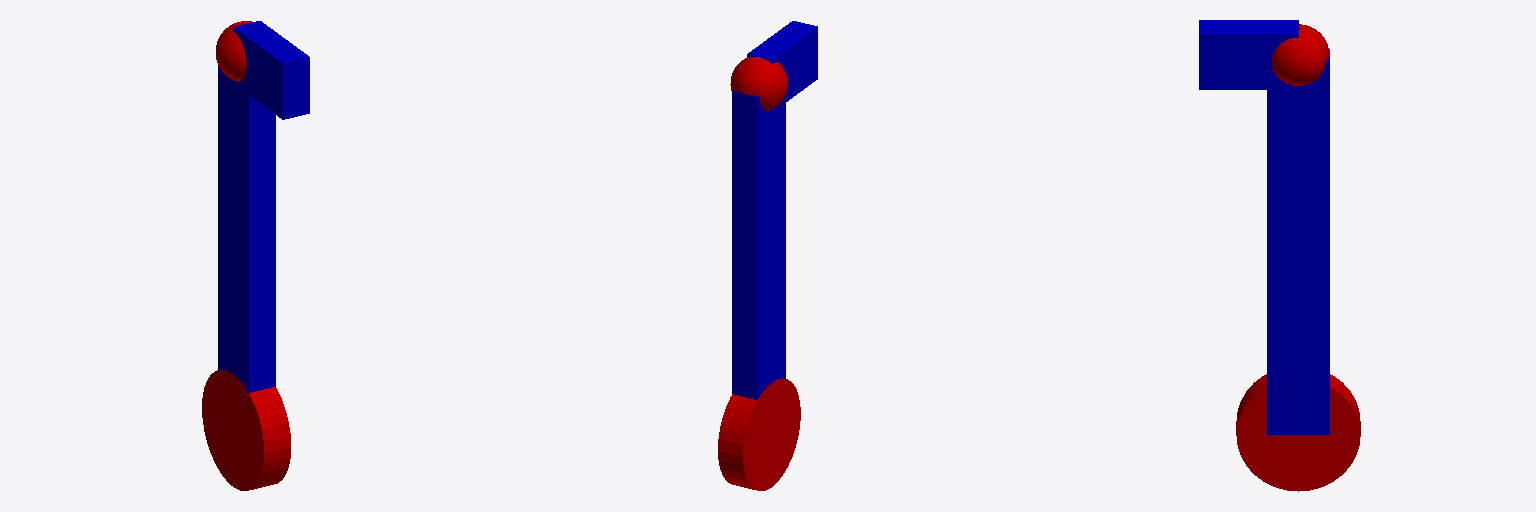
URDF robot description (TwoLinkStruct8389853770):
<?xml version="1.0"?>
<robot  name="TwoLinkStruct8389853770" >
 <material  name="blue" >
  <color  rgba="0 0 0.8 1.0" />
 </material>
 <material  name="red" >
  <color  rgba="0.8 0 0 1.0" />
 </material>
 <link  name="base_link" >
  <visual >
   <origin  rpy="0 1.5707 0"  xyz="0 0 0" />
   <material  name="red" />
   <geometry >
    <cylinder  length="0.05"  radius="0.1" />
   </geometry>
  </visual>
 </link>
 <joint  type="revolute"  name="joint1" >
  <parent  link="base_link" />
  <child  link="link1" />
  <origin  xyz="0 0 0"  rpy="0 0 0" />
  <axis  xyz="1 0 0" />
 </joint>
 <link  name="link1" >
  <inertial >
   <origin  rpy="0 0 0"  xyz="0 0 0.33163691186900107" />
   <mass  value="1.7160672150678613" />
   <inertia  ixy="0.0"  iyy="0.0007150280062782756"  izz="0.06327027780727998"  ixz="0.0"  ixx="0.06327027780727998"  iyz="0.0" />
  </inertial>
  <visual >
   <origin  rpy="0 0 0"  xyz="0 0 0.33163691186900107" />
   <material  name="blue" />
   <geometry >
    <box  size="0.05 0.1 0.6632738237380021" />
   </geometry>
  </visual>
 </link>
 <joint  type="fixed"  name="joint-joint-1" >
  <parent  link="link1" />
  <child  link="joint-link-1" />
  <origin  xyz="0 0 0.6632738237380021"  rpy="1.5707 0 0" />
  <axis  xyz="1 0 0" />
 </joint>
 <link  name="joint-link-1" >
  <inertial >
   <origin  rpy="0 0 0"  xyz="0 0 0" />
   <mass  value="5.0" />
   <inertia  ixy="0"  iyy="0"  izz="0"  ixz="0"  ixx="0"  iyz="0" />
  </inertial>
  <visual >
   <origin  rpy="0 0 0"  xyz="0 0 0" />
   <material  name="red" />
   <geometry >
    <sphere  radius="0.05" />
   </geometry>
  </visual>
 </link>
 <joint  type="revolute"  name="joint2" >
  <parent  link="link1" />
  <child  link="link2" />
  <origin  xyz="0 0 0.6632738237380021"  rpy="1.5707 0 0" />
  <axis  xyz="1 0 0" />
 </joint>
 <link  name="link2" >
  <inertial >
   <origin  rpy="0 0 0"  xyz="0 0 0.0798189848607954" />
   <mass  value="0.7180564065914923" />
   <inertia  ixy="0.0"  iyy="0.0007150280062782756"  izz="0.004001908984001226"  ixz="0.0"  ixx="0.004001908984001226"  iyz="0.0" />
  </inertial>
  <visual >
   <origin  rpy="0 0 0"  xyz="0 0 0.0798189848607954" />
   <material  name="blue" />
   <geometry >
    <box  size="0.05 0.1 0.1596379697215908" />
   </geometry>
  </visual>
 </link>
 <joint  type="fixed"  name="eef_joint" >
  <parent  link="link2" />
  <child  link="eef" />
  <origin  xyz="0 0 0.1596379697215908"  rpy="0 0 0" />
 </joint>
 <link  name="eef" >
  <inertial >
   <origin  rpy="0 0 0"  xyz="0 0 0" />
   <mass  value="1" />
   <inertia  ixy="0"  iyy="0"  izz="0"  ixz="0"  ixx="0"  iyz="0" />
  </inertial>
 </link>
 <transmission  name="motor1" >
  <type  xmltext="SimpleTransmission" >
   SimpleTransmission
  </type>
  <actuator  name="motor1" >
   <mechanicalreduction  xmltext="1" >
    1
   </mechanicalreduction>
  </actuator>
  <joint  name="joint1" />
 </transmission>
 <transmission  name="motor2" >
  <type  xmltext="SimpleTransmission" >
   SimpleTransmission
  </type>
  <actuator  name="motor2" >
   <mechanicalreduction  xmltext="1" >
    1
   </mechanicalreduction>
  </actuator>
  <joint  name="joint2" />
 </transmission>
</robot>

<!-- {'carti': array([-0.1 ,  0.14,  0.85]), 'cartd': array([-0.1 ,  0.32,  1.29]), 'tau_mu': 0.08442957975599918, 'b0': 0.0, 'Km': 3.490400132804153, 'k_velocity': 17.610167111983223, 'tau_max_m': 2.0337054977203906, 'omega_max_m': 2321.345711828367, 'gear_ratio': 10.755843565986744, 'Kp': 74.4145074876342, 'Kd': 36.015943817561194, 'm_m': 5.0, 'l1': 0.6632738237380021, 'l2': 0.1596379697215908, 'k1': 1000.0, 'k2': 325085777.0462696, 'k3': 147465890.89978033}-->

--- What the picture shows (computed from the rendered views, not written in the file) ---
3 views of the same robot in one strip: view 1: azimuth 30°, elevation 25°; view 2: azimuth 150°, elevation 25°; view 3: azimuth 270°, elevation 25° (orthographic).
Model TwoLinkStruct8389853770 with 5 links and 4 joints (2 revolute, 2 fixed), rooted at base_link, posed every joint at zero.
Links seen in each view (by area): view 1: link1, base_link, link2, joint-link-1; view 2: link1, base_link, link2, joint-link-1; view 3: link1, base_link, link2, joint-link-1.
Boxes of the visible links, x1,y1,x2,y2 form: link1: (218, 65, 275, 439); base_link: (202, 370, 290, 490); link2: (233, 21, 309, 119); joint-link-1: (216, 21, 251, 81); link1: (732, 90, 785, 399); base_link: (718, 378, 800, 490); link2: (747, 21, 817, 112); joint-link-1: (730, 57, 787, 110); link1: (1267, 49, 1329, 434); base_link: (1236, 374, 1360, 491); link2: (1199, 20, 1298, 89); joint-link-1: (1272, 24, 1329, 85).
Bounding box of the posed robot: 0.1 × 0.2596 × 0.8133 m (x, y, z).
Geometry: primitives only (box / cylinder / sphere), no mesh files.
